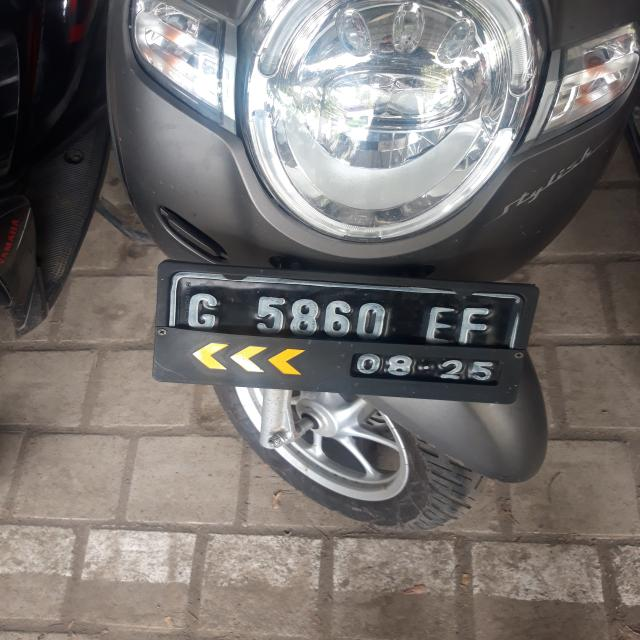plate: (159, 263, 519, 401)
